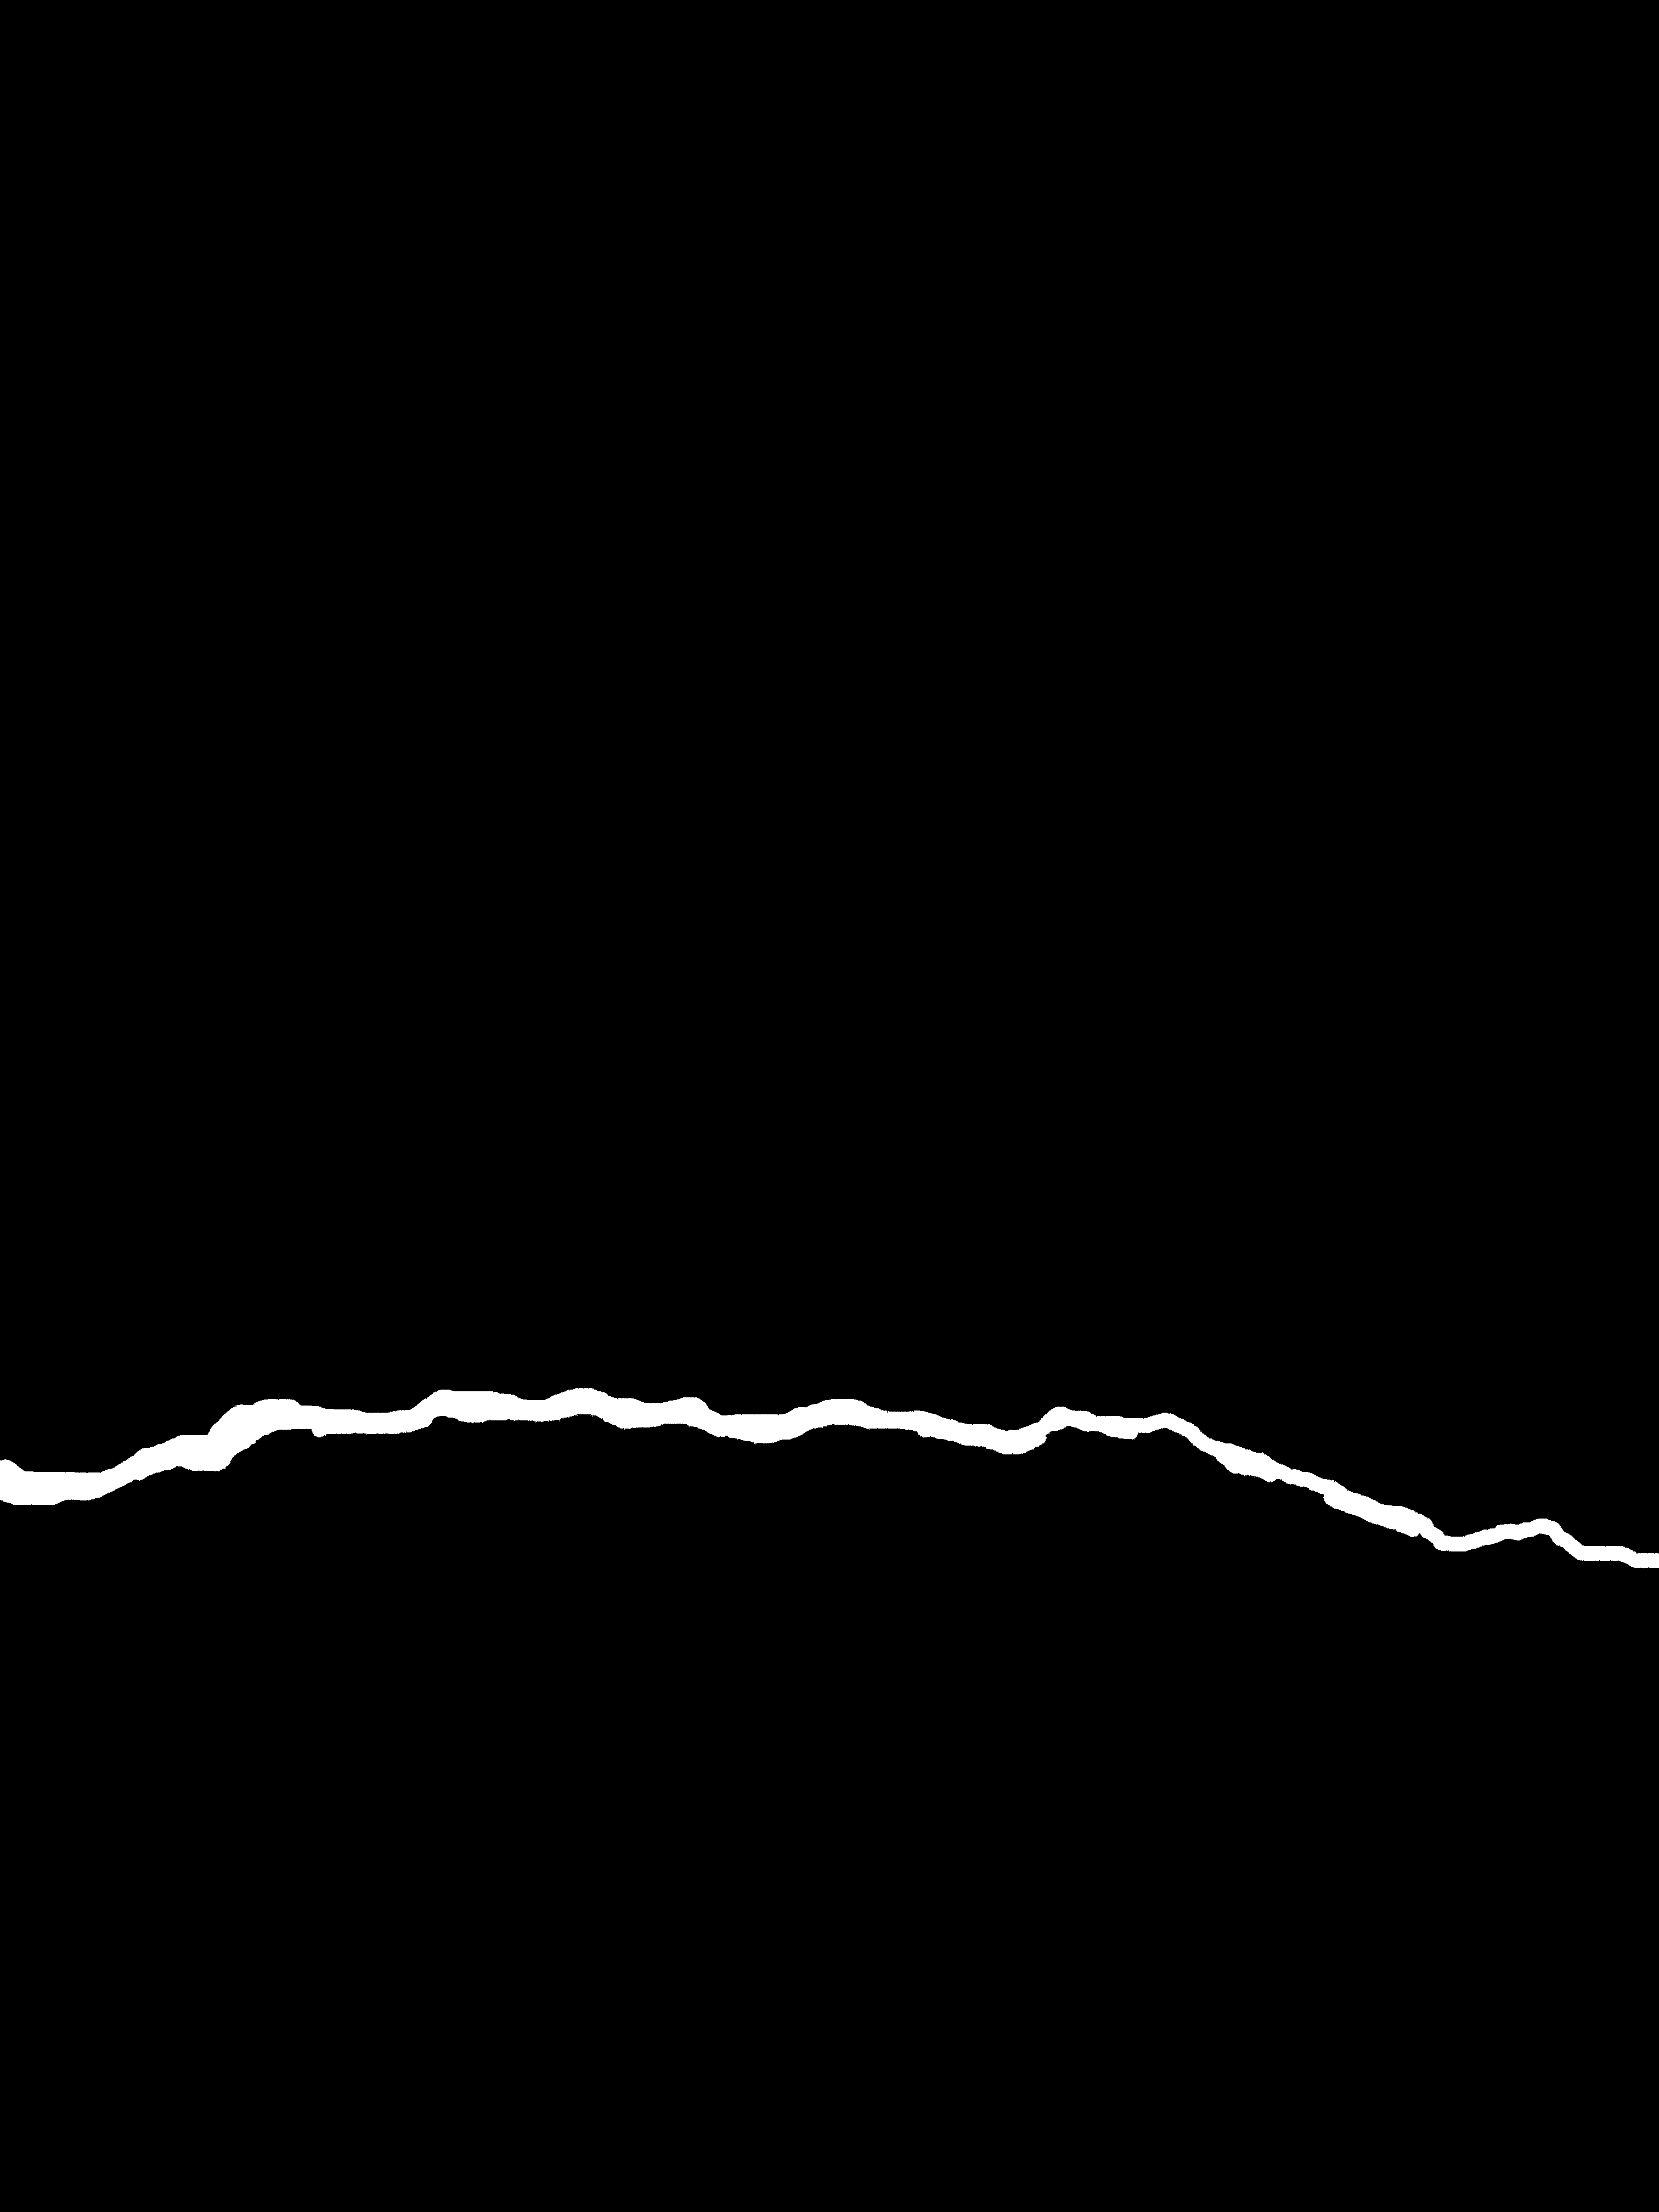Crack: (0, 1371, 1659, 1585)
